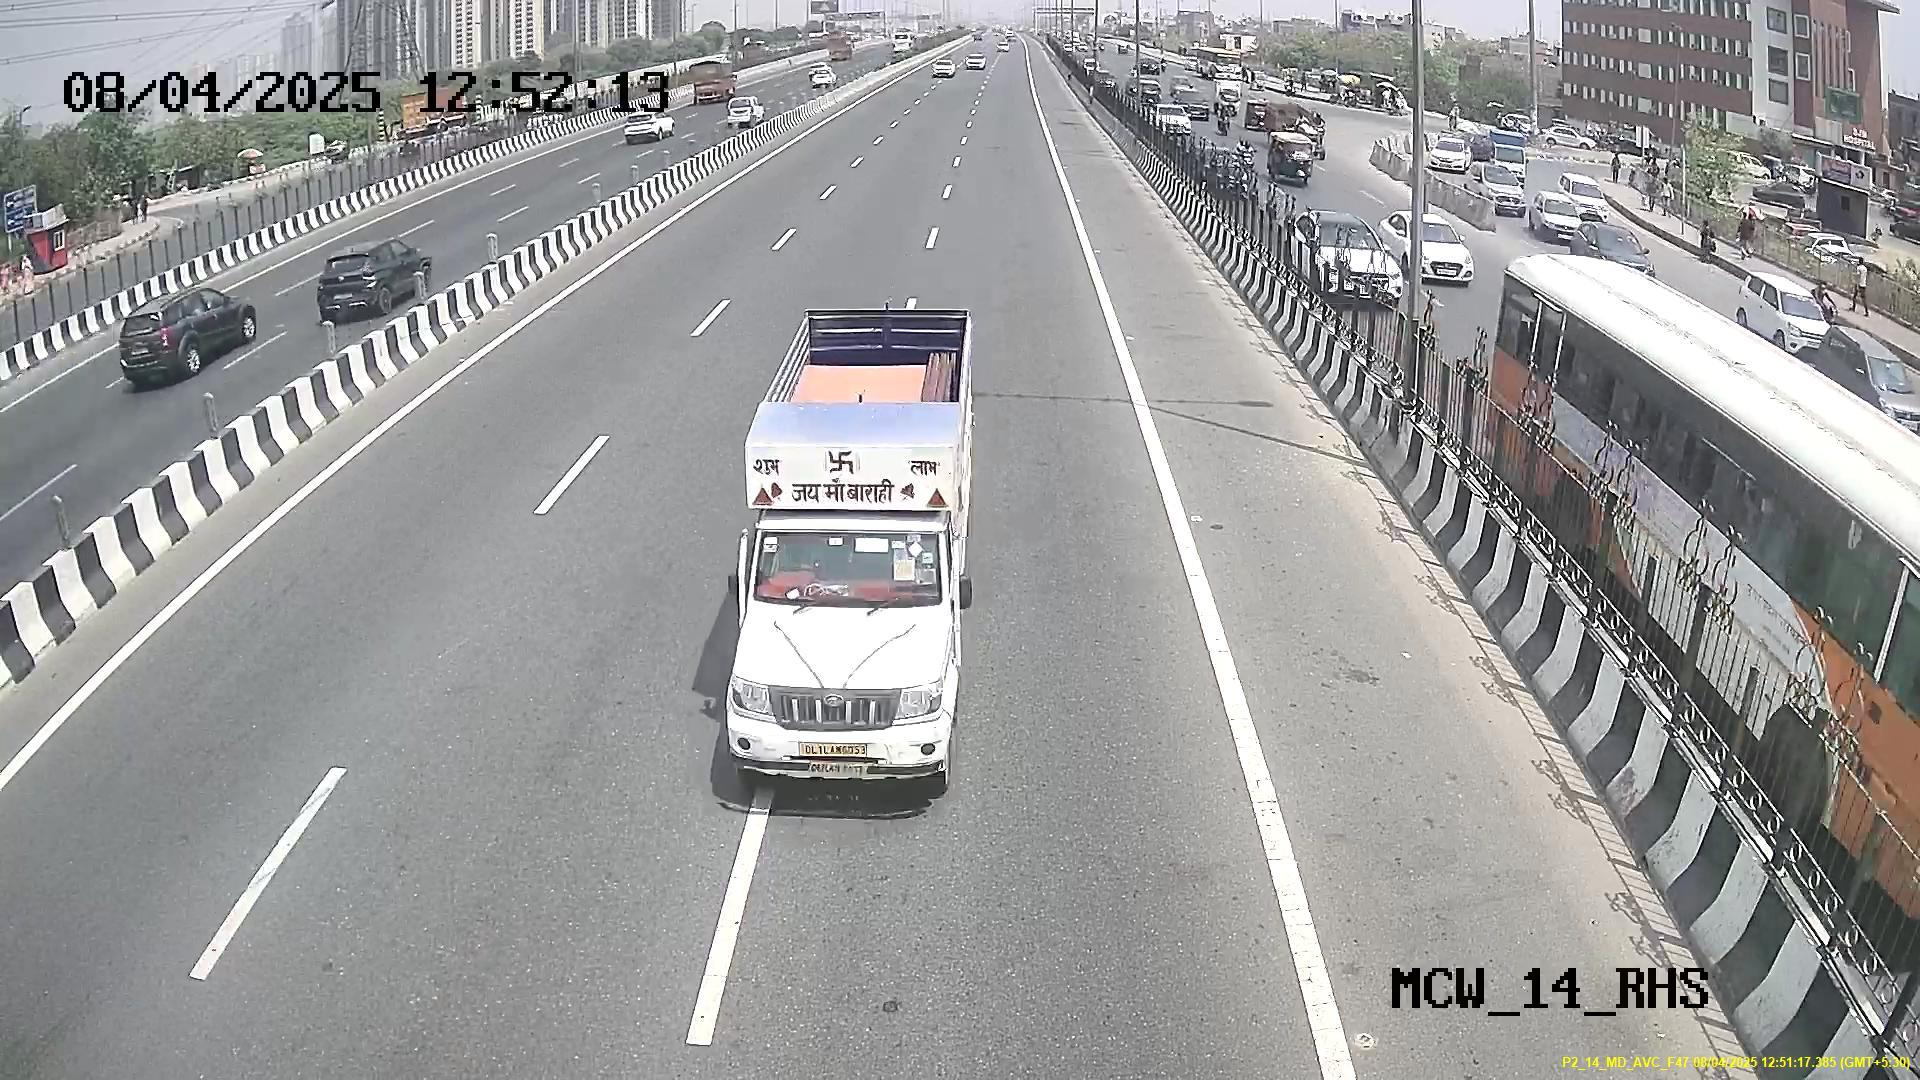car: (708, 475, 972, 802)
